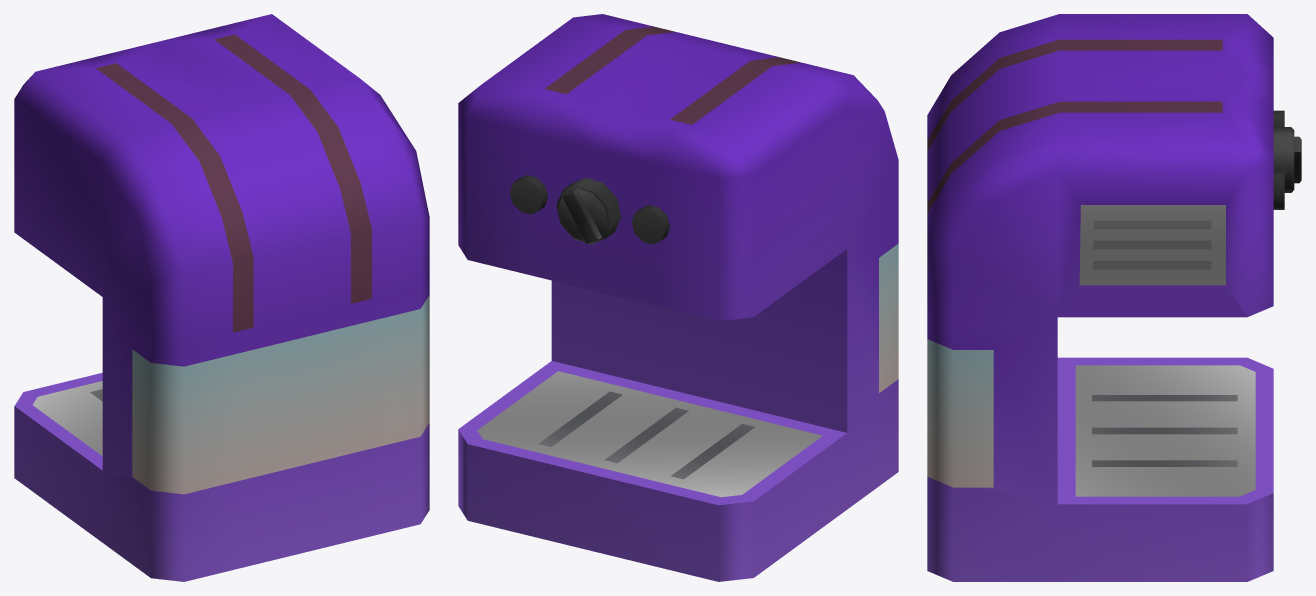
File: Station Tea.fbx
3 renders of one model, left to right at view 1: azimuth 30°, elevation 25°; view 2: azimuth 150°, elevation 25°; view 3: azimuth 270°, elevation 25°, orthographic. The views are drawn at different scales.
Visible parts, largest first — view 1: Station_Tea; view 2: Station_Tea; view 3: Station_Tea.
Part boxes in pixels (x1=…): Station_Tea: x1=14, y1=14, x2=429, y2=581; Station_Tea: x1=458, y1=14, x2=898, y2=581; Station_Tea: x1=927, y1=14, x2=1301, y2=581.
Bounding box in the file's own units: 160 × 220 × 173.
